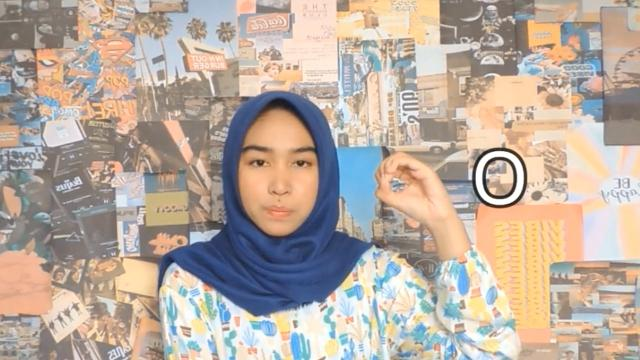O: (372, 144, 454, 222)
